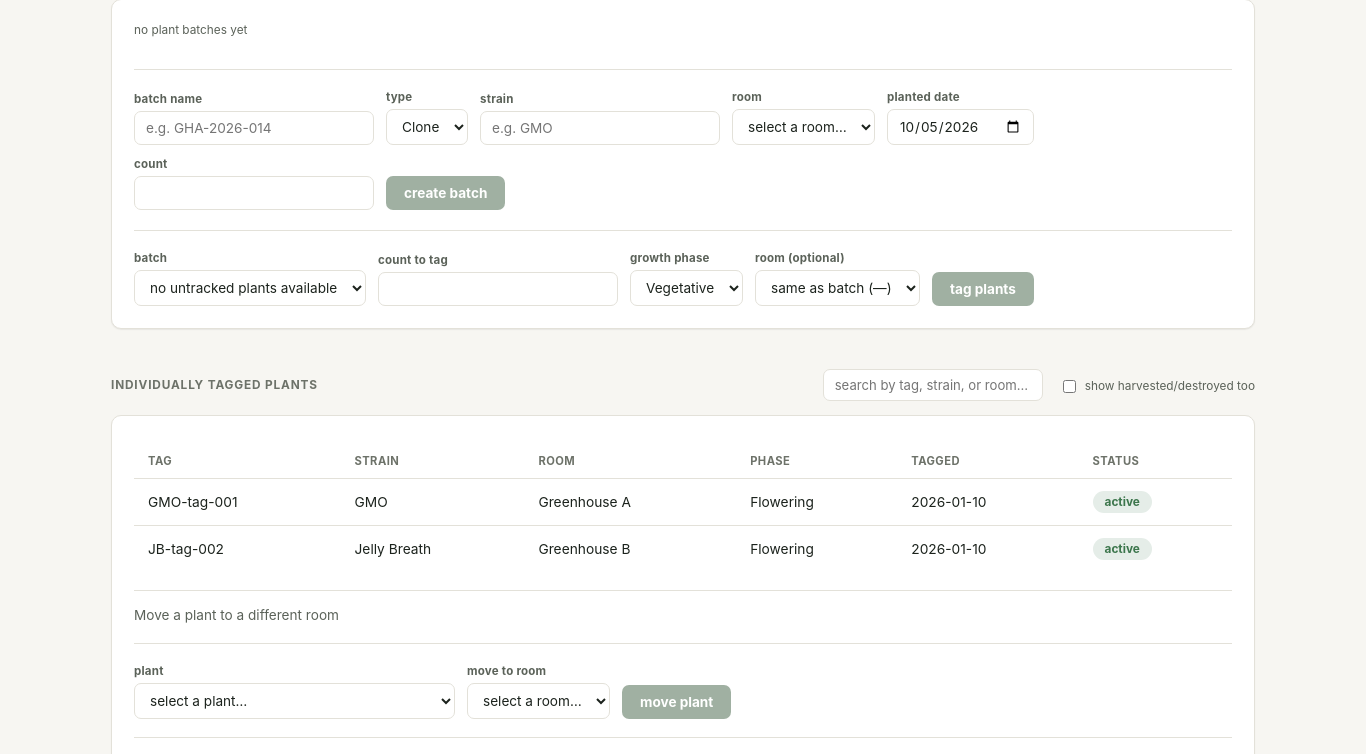
Test: PlantsBatches — plant search › filters by strain, case-insensitively
(page scrolled)
Expected: the text "GMO-tag-001" is shown, [134,478,340,525]
Type "jelly" into the field with placeholder "search by tag, strain, or room…" at (933, 385), box [823,369,1043,401]
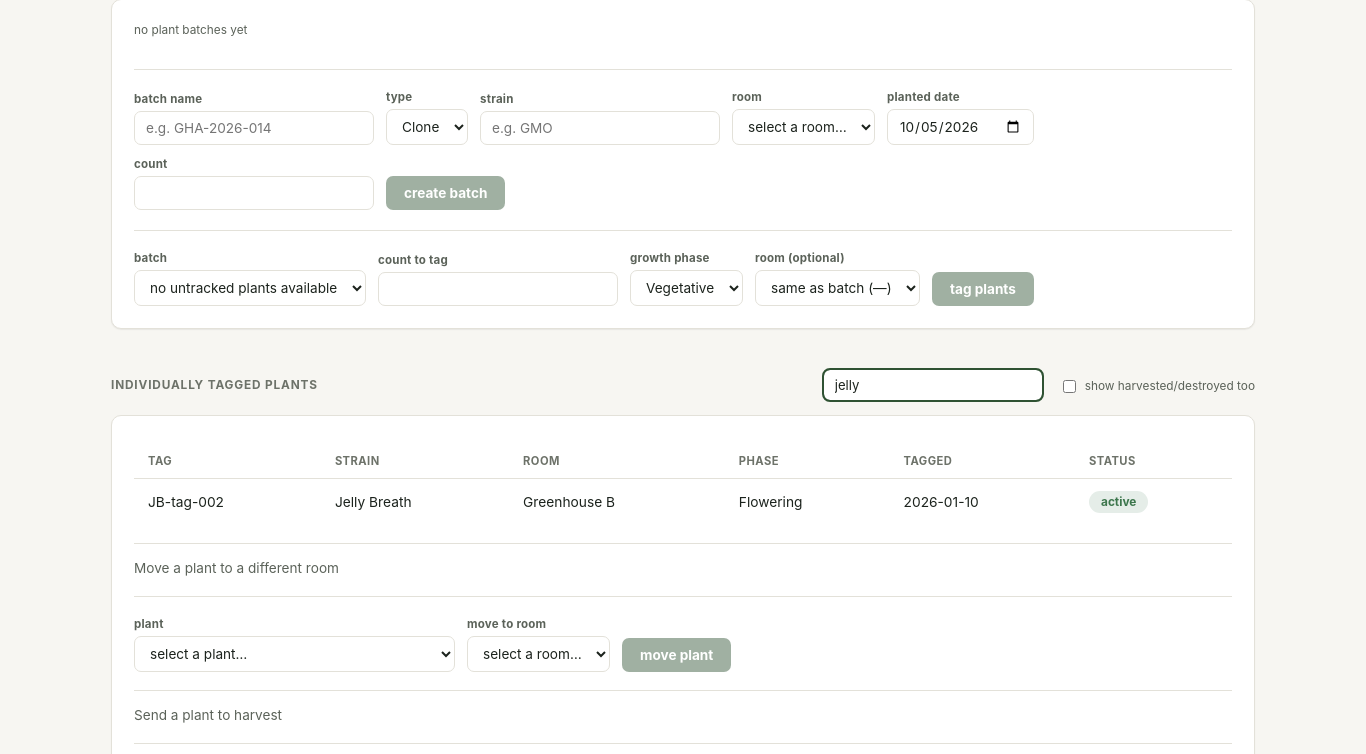
Expected: the text "JB-tag-002" is shown, [134,478,321,525]
Expected: the text "GMO-tag-001" is gone
